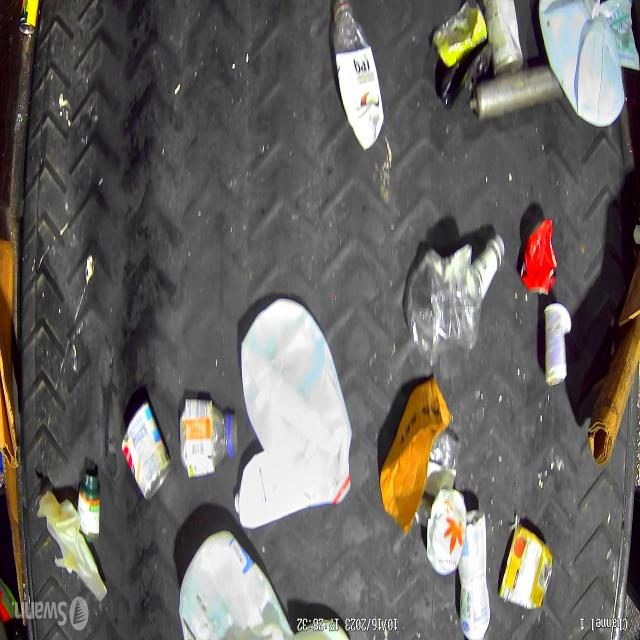can: (120, 401, 170, 505), (486, 0, 526, 70)
milk_jug: (240, 292, 356, 509), (170, 523, 294, 640), (540, 0, 632, 126)
plastic_bottle: (318, 0, 390, 151)
